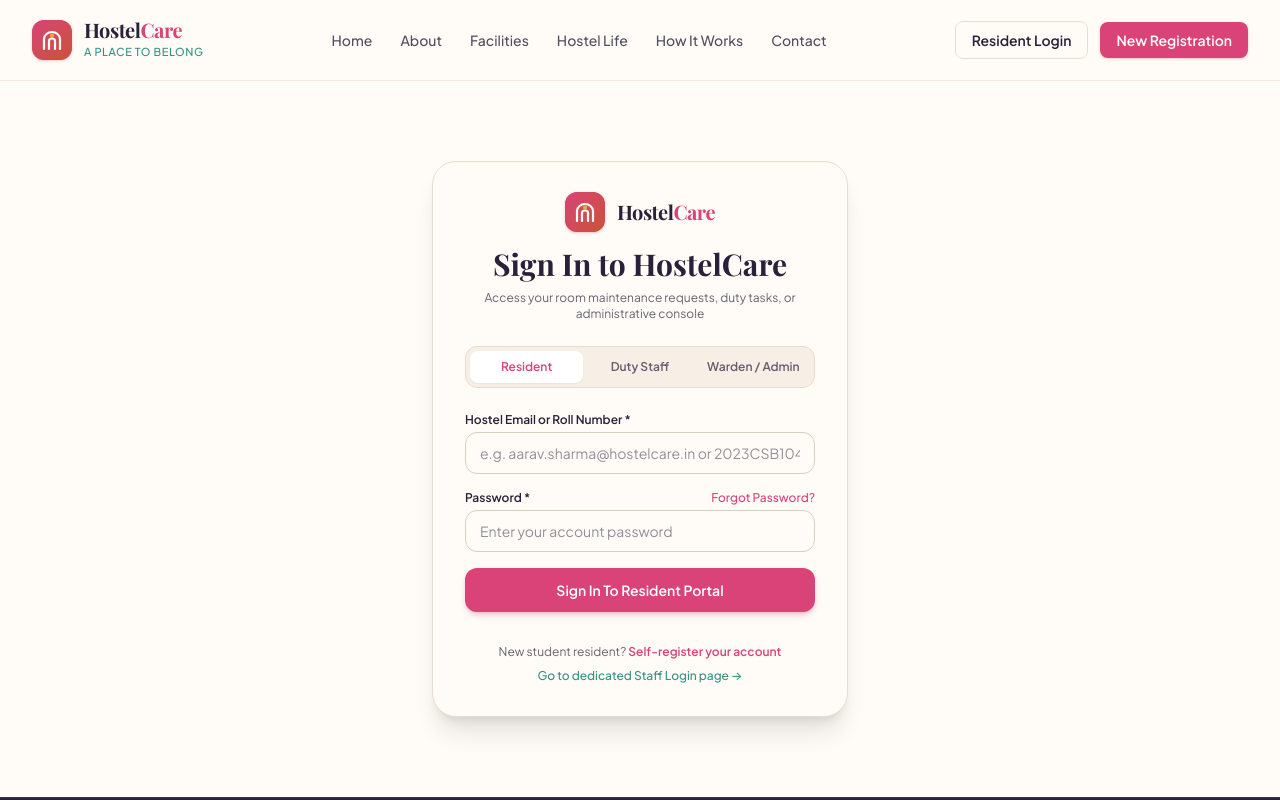
Test: HostelCare Multi-Page Application & Phase 3C Authentication › shows pending-approval banner when a pending student attempts to sign in
The image size is (1280, 800).
Type "pending.student@hostelcare.in" into the field labelled "Hostel Email or Roll Number *" at (640, 453), box [465,432,815,474]
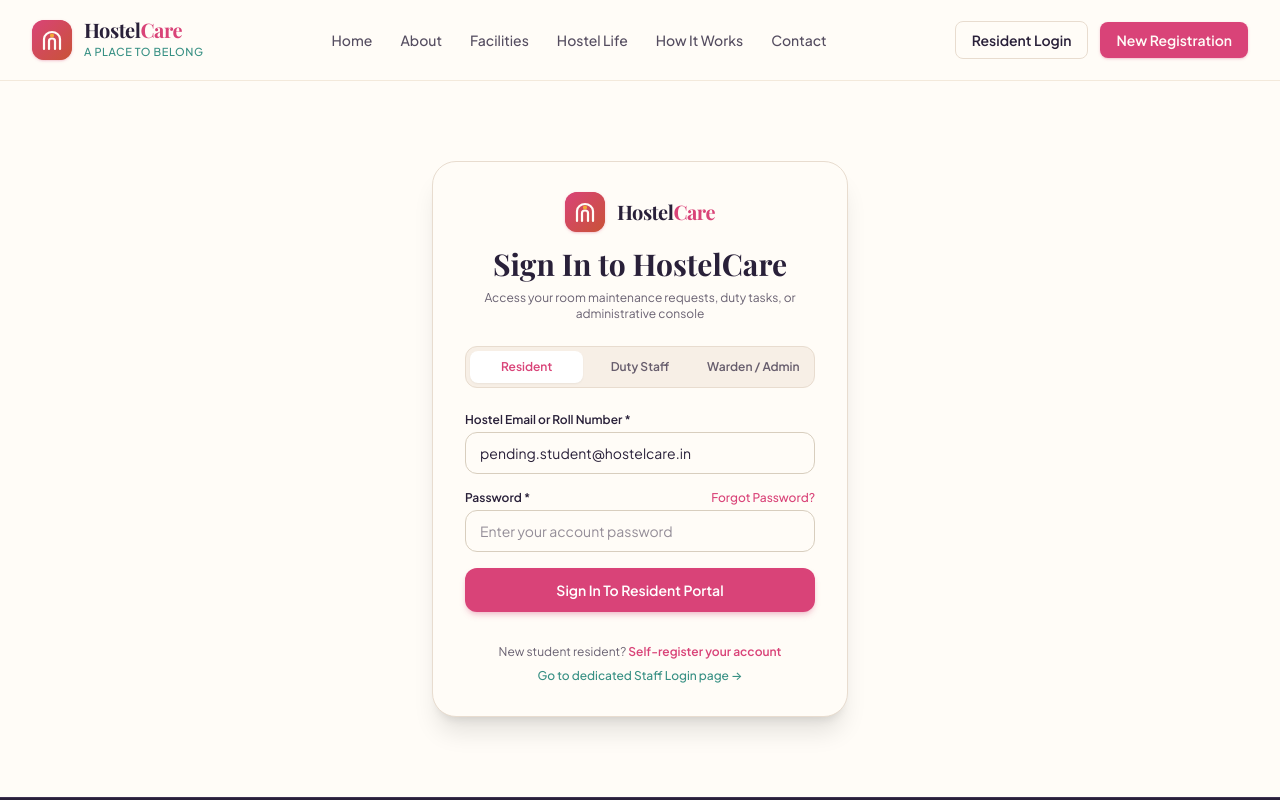
Type "StudentPass123!" into the password field labelled "Password *" at (640, 531), box [465,510,815,552]
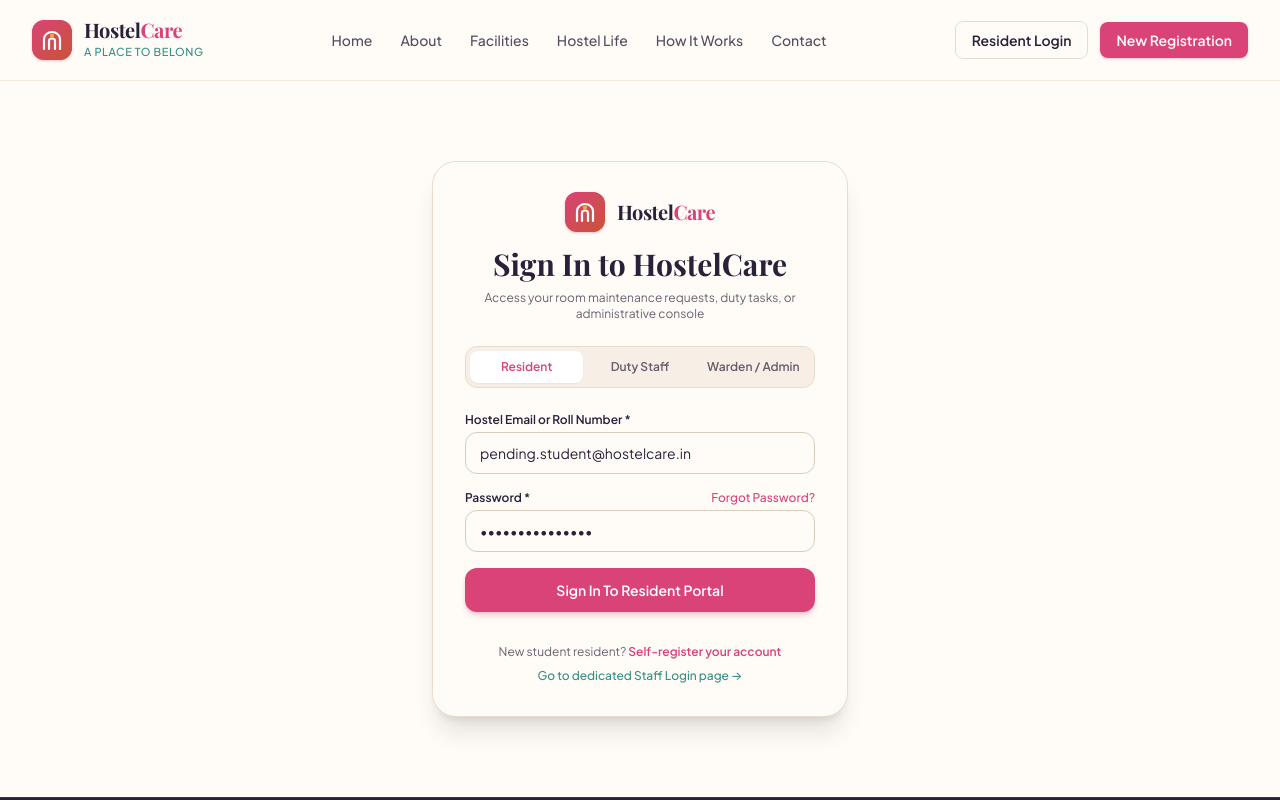
Click the button "Sign In To Resident Portal" at (640, 590), box [465,568,815,612]
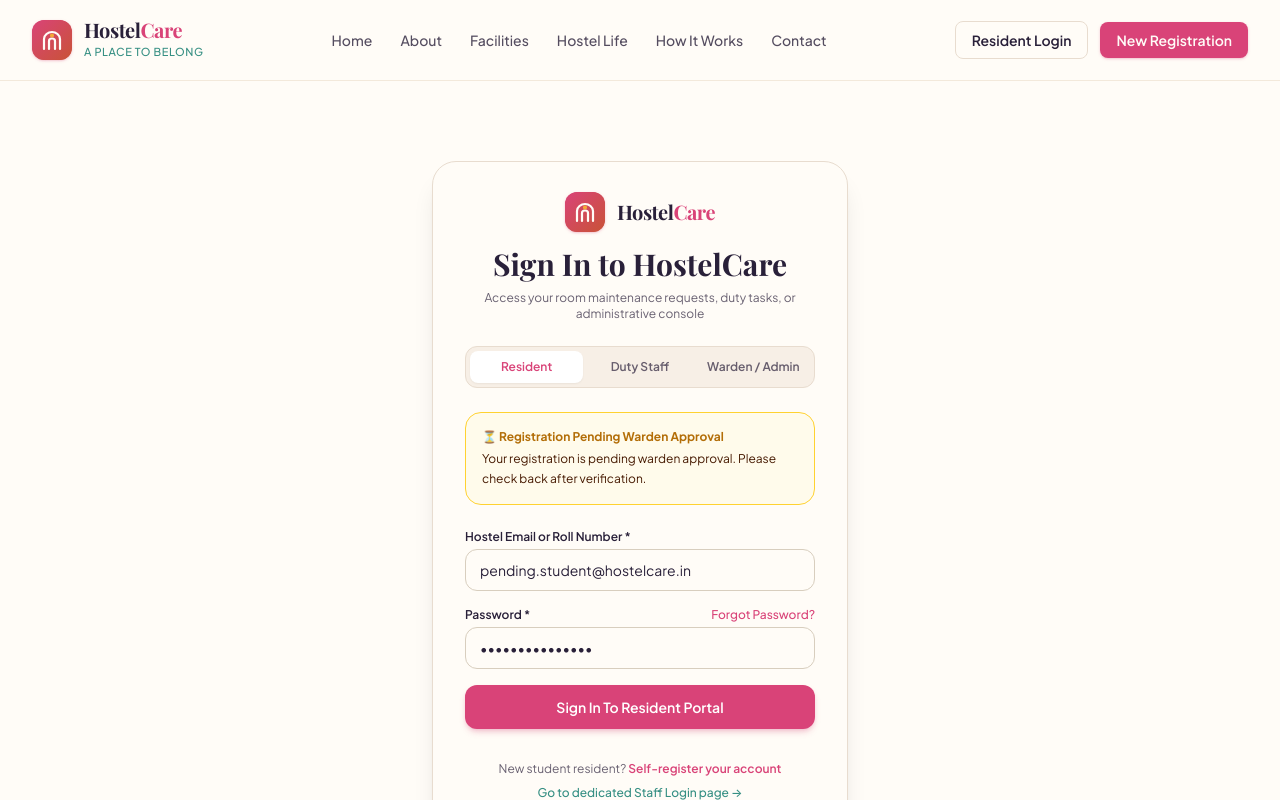
Check: the text "⏳ Registration Pending Warden Approval" is shown, box [482,429,724,444]
